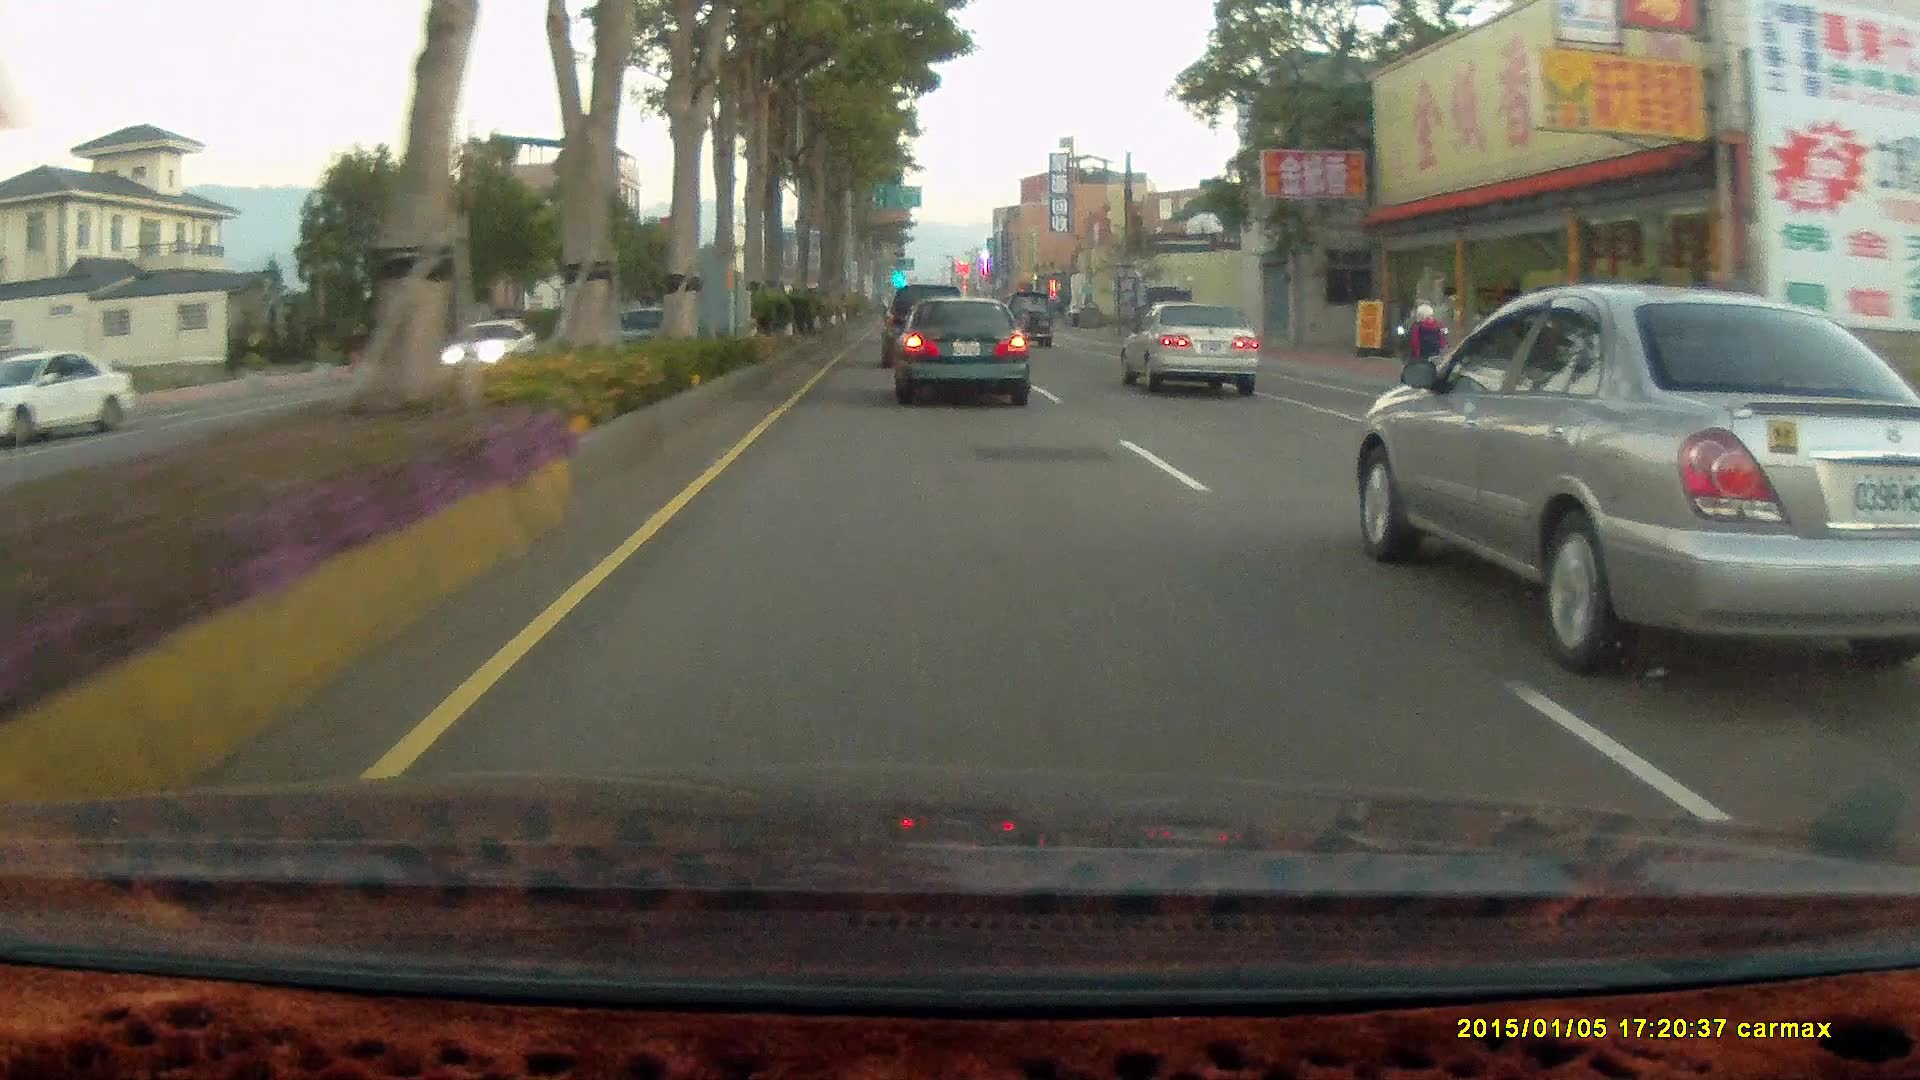rider: (1388, 291, 1464, 431), (1397, 301, 1456, 410)
vehicle: (1346, 289, 1920, 649), (891, 294, 1035, 411), (889, 294, 1029, 406), (1120, 306, 1268, 406), (1117, 297, 1259, 394), (1, 349, 139, 444), (0, 349, 137, 444), (883, 282, 973, 368), (882, 285, 965, 370), (440, 315, 542, 379), (436, 315, 543, 369), (1136, 285, 1195, 342), (1003, 290, 1053, 351)
